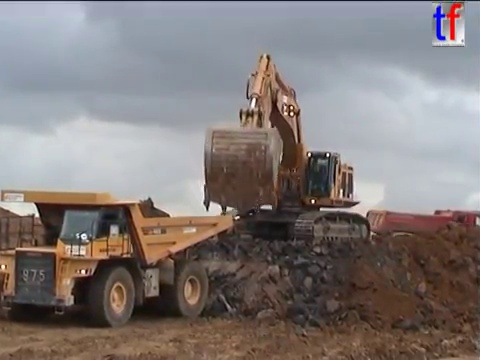excavator: (200, 51, 373, 253)
truck: (1, 187, 236, 329), (364, 207, 480, 255)
